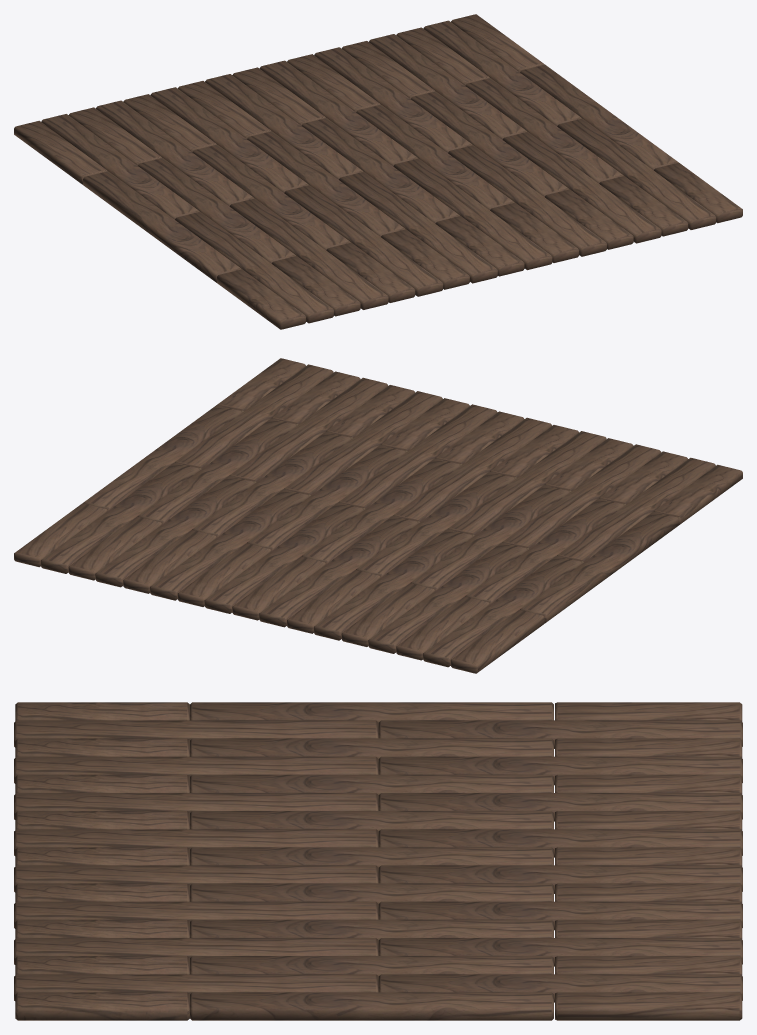
File: SM_WoodFloor6x6.fbx
The picture shows the model from 3 angles, top to bottom: view 1: azimuth 30°, elevation 25°; view 2: azimuth 150°, elevation 25°; view 3: azimuth 270°, elevation 25°; orthographic projection. The views are drawn at different scales.
Parts seen in each view (by area): view 1: SM_WoodFloor6x6; view 2: SM_WoodFloor6x6; view 3: SM_WoodFloor6x6.
Boxes of the visible parts, left/top/right/bottom form: SM_WoodFloor6x6: left=14, top=14, right=742, bottom=329; SM_WoodFloor6x6: left=14, top=358, right=742, bottom=673; SM_WoodFloor6x6: left=14, top=702, right=742, bottom=1020.
Size of the model in its own units: 600 by 11.64 by 600.
